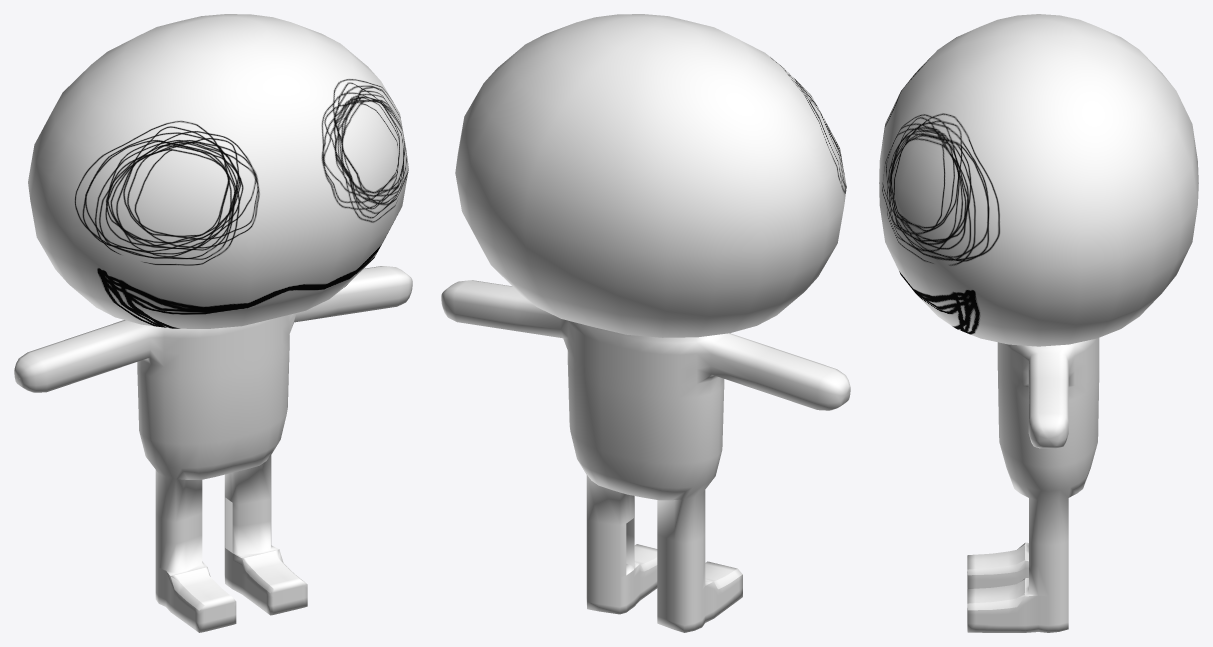
The model's file is ghosttest.FBX.
3 views of the same model, side by side, from view 1: azimuth 30°, elevation 25°; view 2: azimuth 150°, elevation 25°; view 3: azimuth 270°, elevation 25° (orthographic). The views are drawn at different scales.
Visible parts, largest first — view 1: Head, Sphere001; view 2: Head, Sphere001; view 3: Head, Sphere001.
Boxes of the visible parts, <box> form: Head: <box>28,14,408,328</box>; Sphere001: <box>14,266,412,632</box>; Head: <box>455,14,846,337</box>; Sphere001: <box>441,280,850,632</box>; Head: <box>879,14,1198,346</box>; Sphere001: <box>967,338,1099,632</box>.
Bounding box in the file's own units: 17.42 × 24.03 × 12.24.
